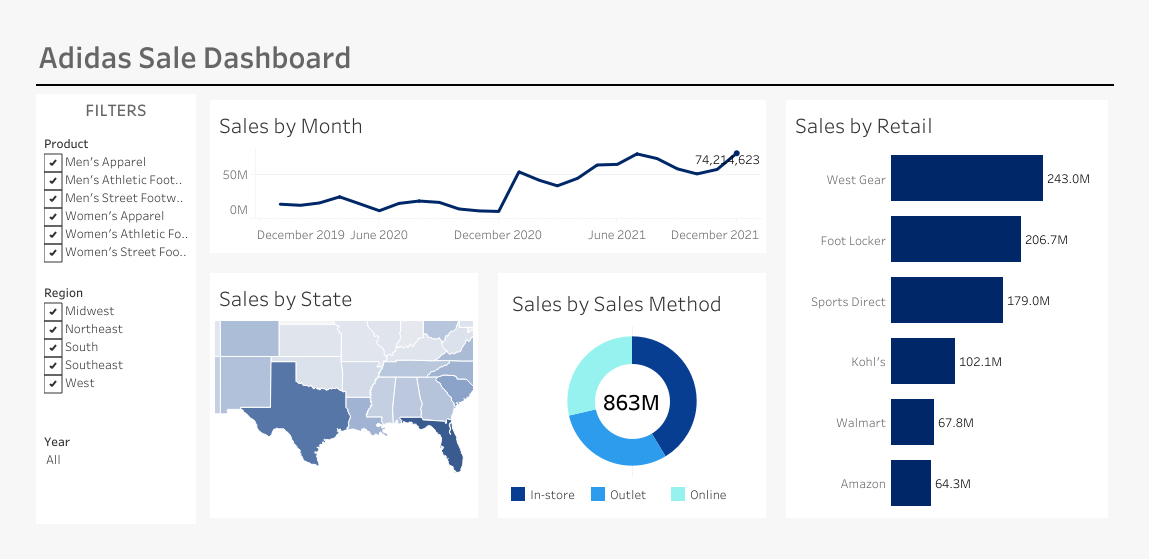

The dashboard page shown, as its layout file describes it:
{"tool":"tableau","page":{"name":"Dashboard 4","canvas":[1000,1000],"units":"permille","ordinal":0},"visuals":[{"type":"text","box":[28.1,57.1,943.8,85.7]},{"type":"blank","box":[28.1,142.9,943.8,17.9]},{"type":"worksheet","title":"Sales by Month","mark":"Automatic","rows":["Total Sales"],"cols":["Invoice Date"],"box":[175.6,160.7,496.1,308.9]},{"type":"worksheet","title":"Sales by Retail","mark":"Automatic","rows":["Retailer"],"cols":["Total Sales"],"box":[671.6,160.7,300.3,782.1]},{"type":"text","box":[31.6,167.9,140.5,53.6]},{"type":"filter","title":"Sales by Sales Method","param":"[federated.0o3kv550m5jpee1cbg1oy058pkxe].[none:Product:nk]","box":[31.6,221.4,140.5,270.5]},{"type":"worksheet","title":"Sales by State","mark":"Automatic","box":[175.6,469.6,248.5,473.2]},{"type":"filter","title":"Sales by Sales Method","param":"[federated.0o3kv550m5jpee1cbg1oy058pkxe].[none:Region:nk]","box":[31.6,491.9,140.5,270.5]},{"type":"worksheet","title":"Sales by Sales Method","mark":"Pie","cols":["Calculation_1002895373639442433","Calculation_1002895373640089603"],"box":[438.1,498.2,219.5,358.9]},{"type":"filter","title":"Sales by Sales Method","param":"[federated.0o3kv550m5jpee1cbg1oy058pkxe].[yr:Invoice Date:ok]","box":[31.6,762.5,140.5,173.2]},{"type":"legend","title":"Sales by Sales Method","param":"[federated.0o3kv550m5jpee1cbg1oy058pkxe].[none:Sales Method:nk]","box":[438.1,857.1,219.5,57.1]}]}

Visuals, with their boxes on the dashboard's canvas, which has no fixed pixel size, in thousandths of its width and height (x1, y1, x2, y2). These are canvas units, not pixel positions in the 1149x559 screenshot, which may show the page scaled, cropped or inside an application window:
text: <region>28, 57, 972, 143</region>
blank: <region>28, 143, 972, 161</region>
"Sales by Month" worksheet: <region>176, 161, 672, 470</region>
"Sales by Retail" worksheet: <region>672, 161, 972, 943</region>
text: <region>32, 168, 172, 222</region>
"Sales by Sales Method" filter: <region>32, 221, 172, 492</region>
"Sales by State" worksheet: <region>176, 470, 424, 943</region>
"Sales by Sales Method" filter: <region>32, 492, 172, 762</region>
"Sales by Sales Method" worksheet (Pie marks): <region>438, 498, 658, 857</region>
"Sales by Sales Method" filter: <region>32, 762, 172, 936</region>
"Sales by Sales Method" legend: <region>438, 857, 658, 914</region>
